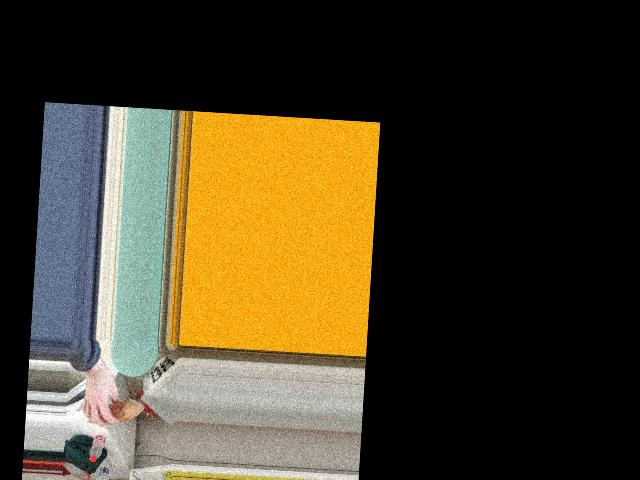sweet_potato: (84, 398, 142, 427)
